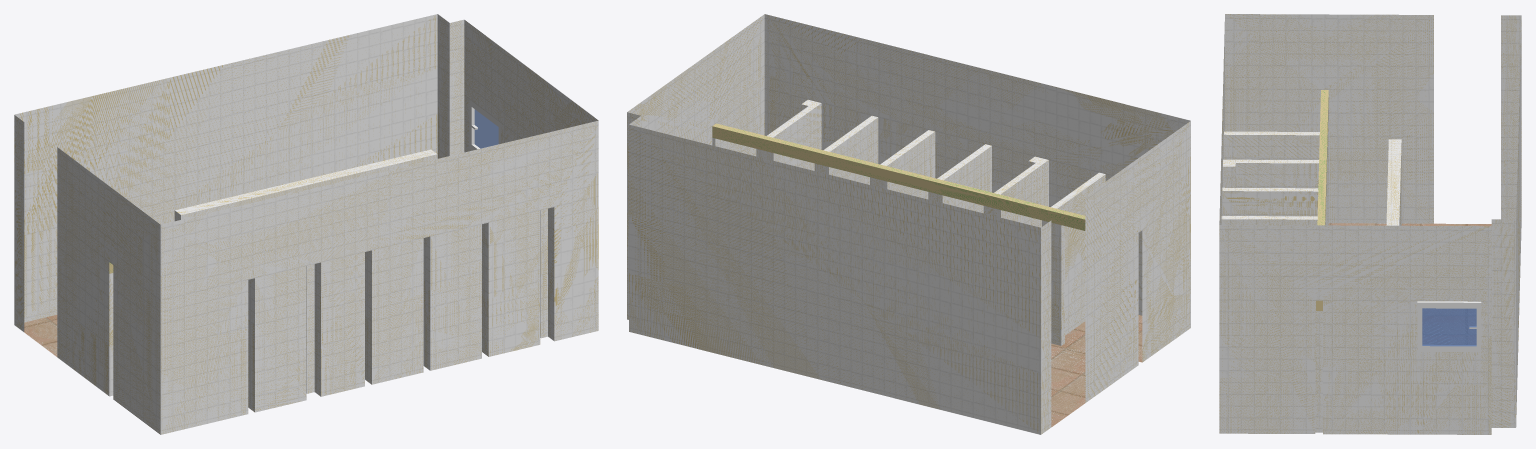
File: COM004.obj
The picture shows the model from 3 angles, left to right: view 1: azimuth 30°, elevation 25°; view 2: azimuth 150°, elevation 25°; view 3: azimuth 270°, elevation 25°; orthographic projection.
Visible parts, largest first — view 1: Mesh4 COM004 Model, Mesh1 ventana3_1 COM004 Model; view 2: Mesh4 COM004 Model; view 3: Mesh4 COM004 Model, Mesh1 ventana3_1 COM004 Model.
Boxes of the visible parts, x1,y1,x2,y2 form: Mesh4 COM004 Model: [14, 14, 598, 434]; Mesh1 ventana3_1 COM004 Model: [469, 99, 500, 150]; Mesh4 COM004 Model: [627, 14, 1190, 434]; Mesh4 COM004 Model: [1219, 14, 1521, 434]; Mesh1 ventana3_1 COM004 Model: [1417, 301, 1481, 352].
Bounding box in the file's own units: 7.9 × 3.6 × 4.72.
7 materials, 3 textured.
